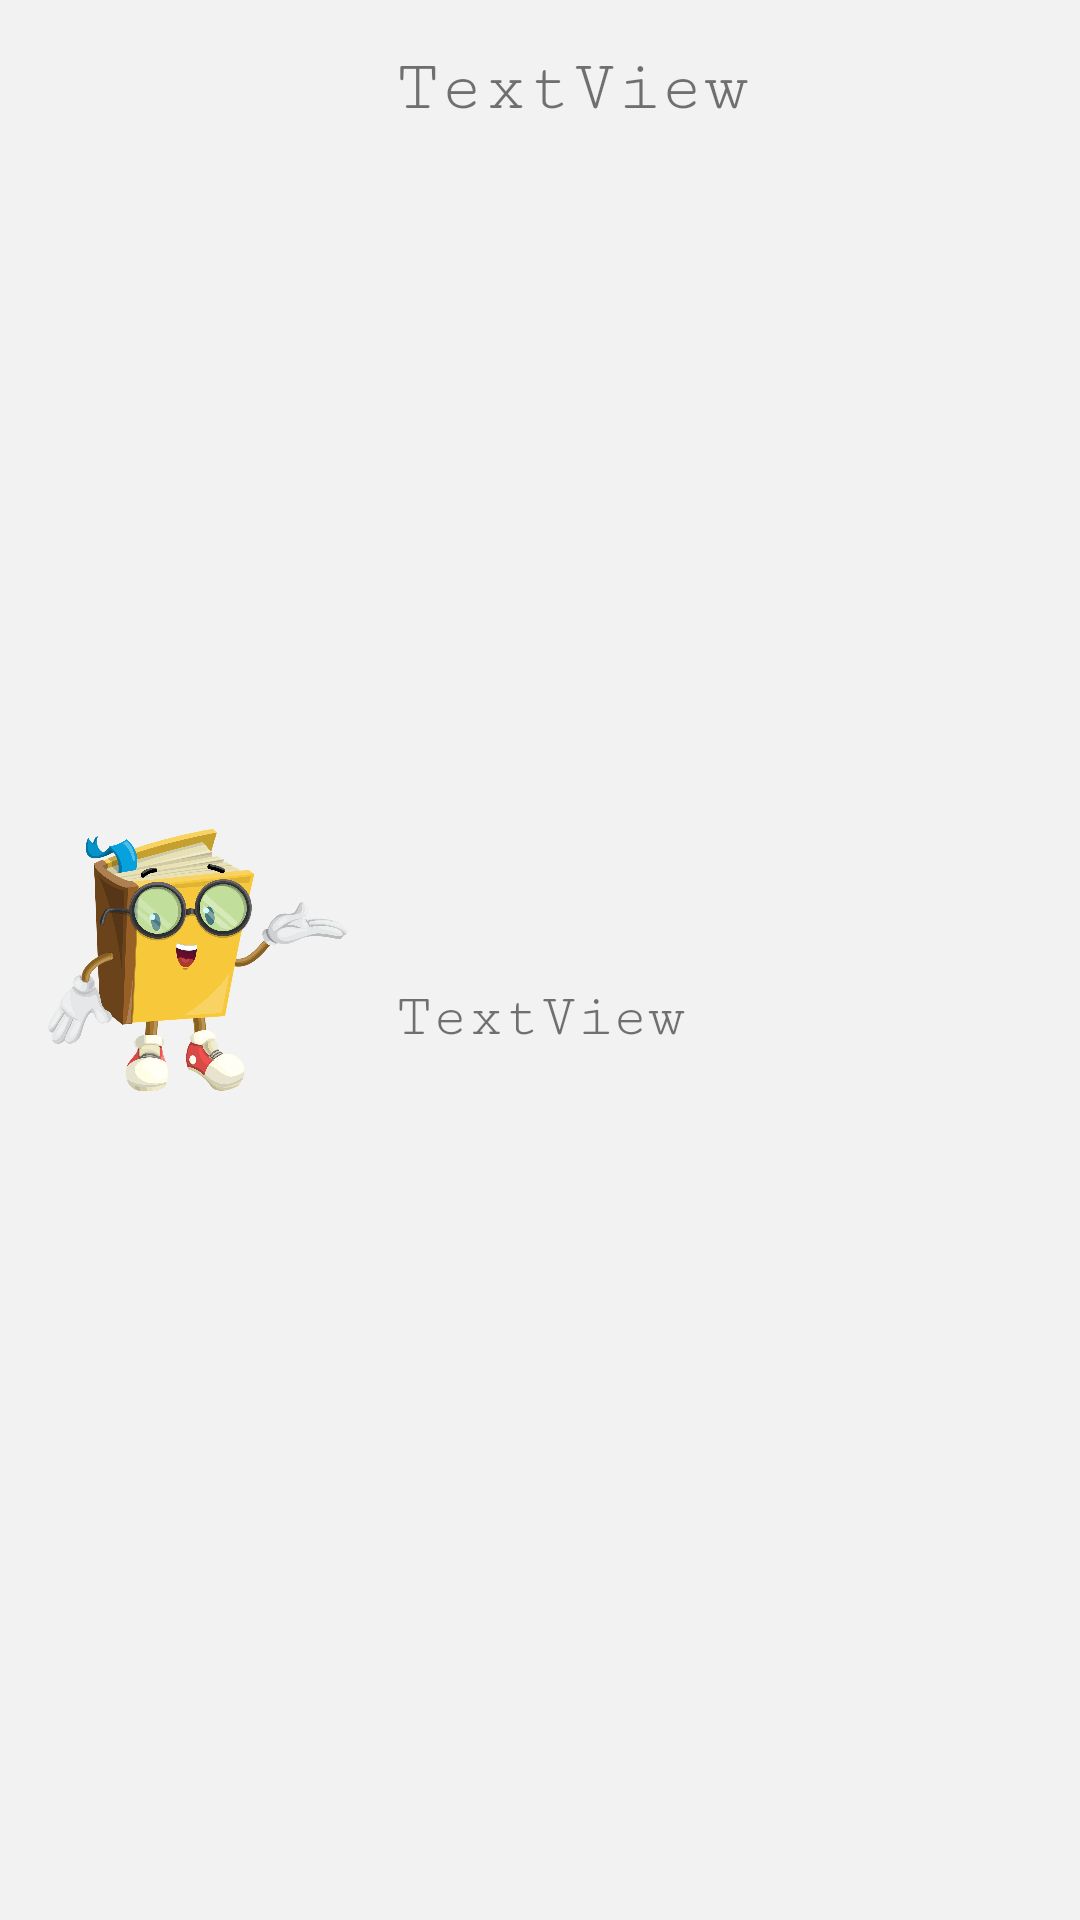

Icons on this 1080*1920 Android screen, each with the point to tap as point (x, y):
book character: point (198, 960)
